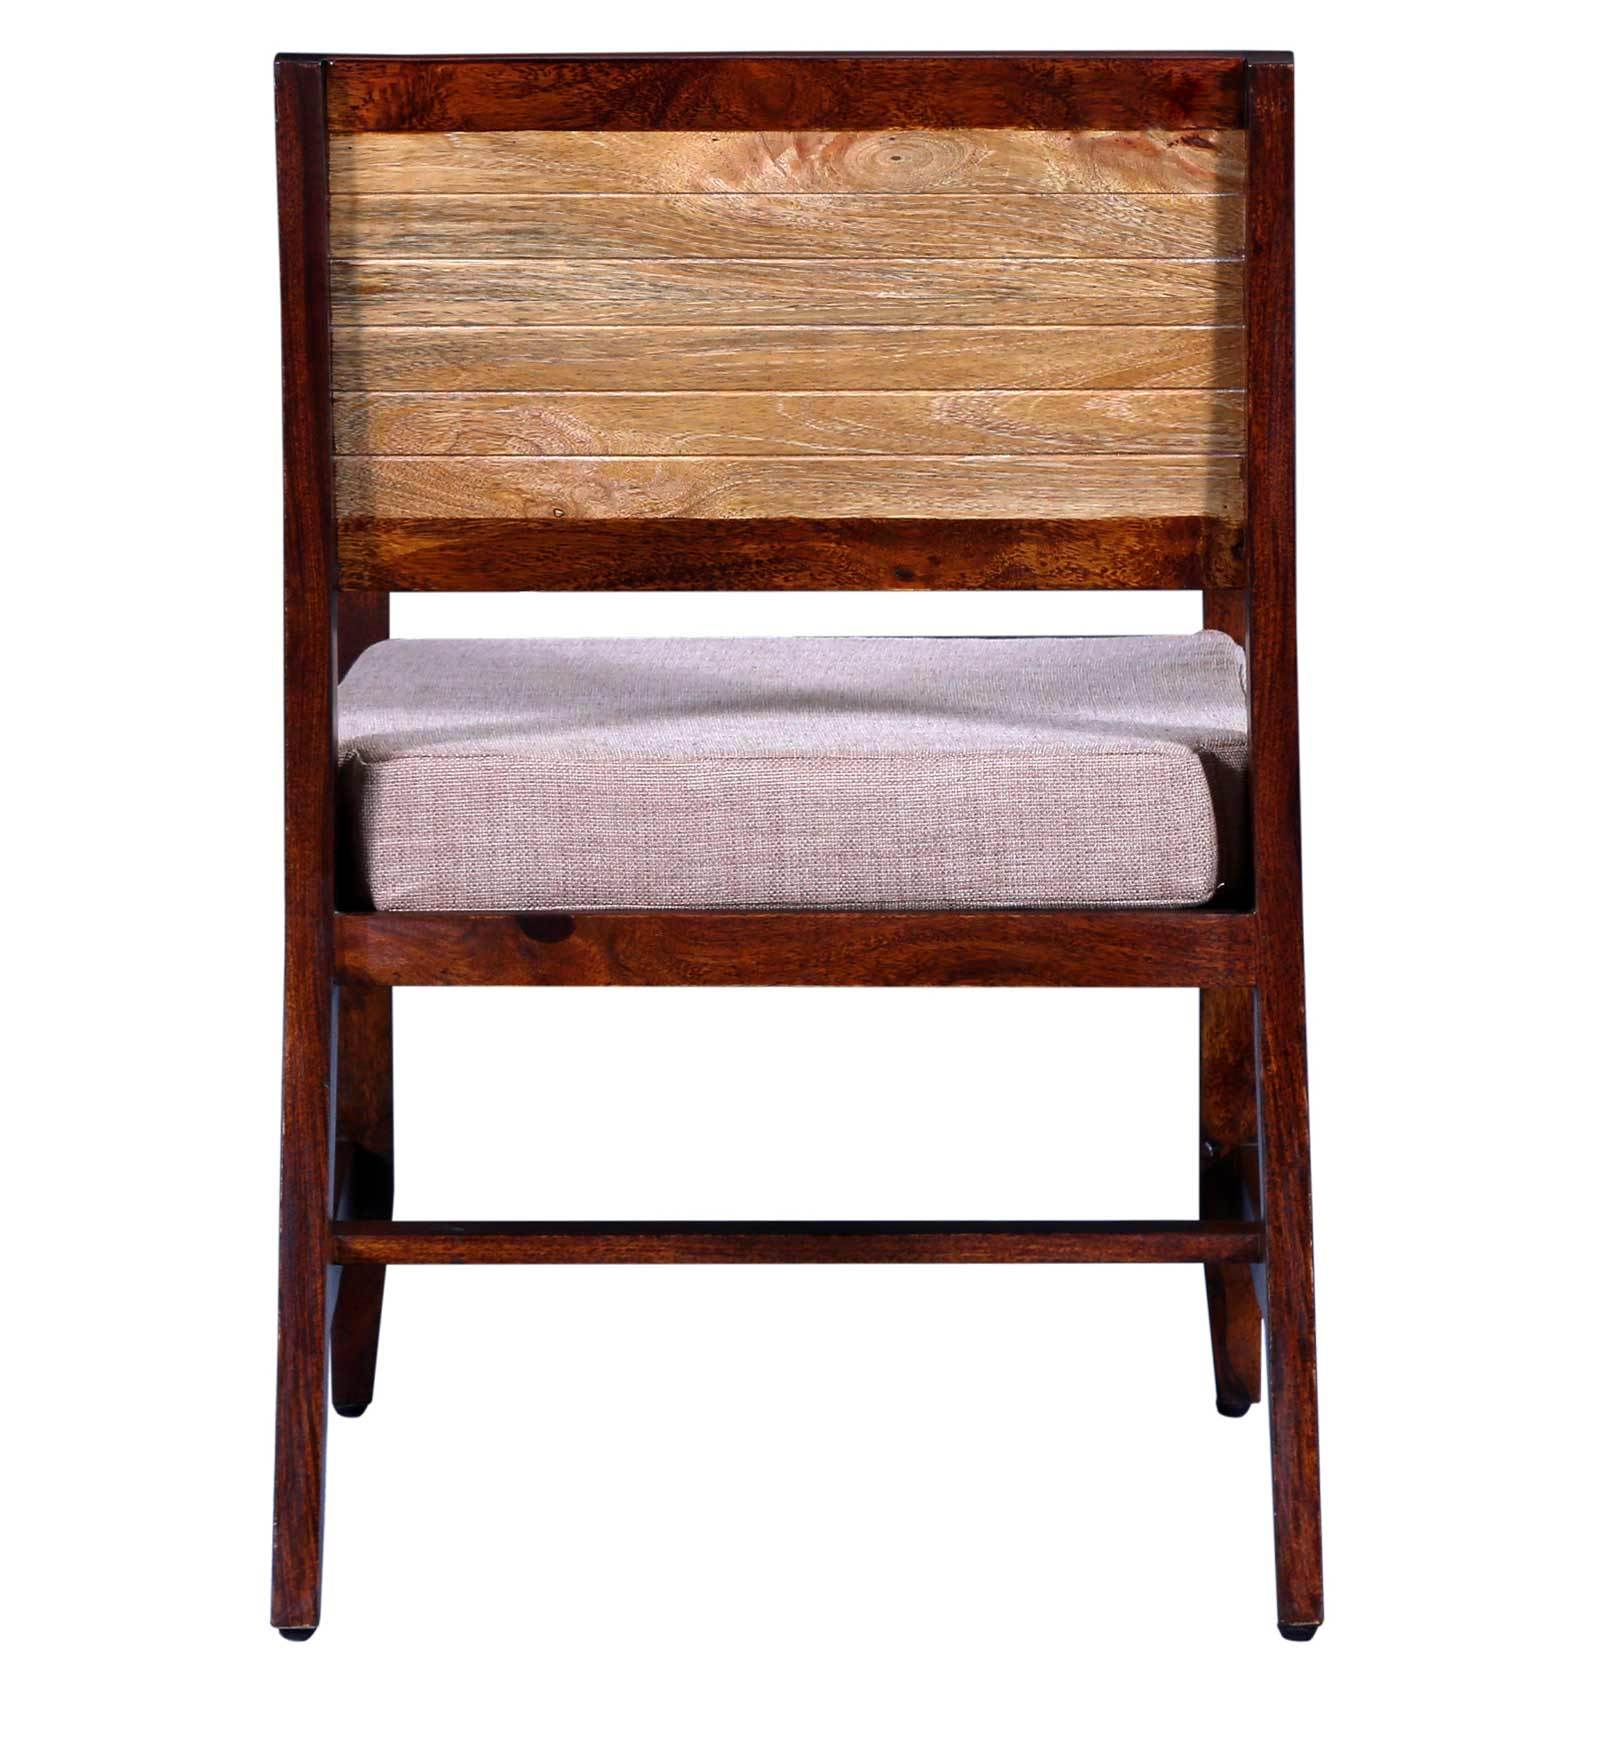Anitz Arm Chair in Dual Tone Finish by Woodsworth: (202, 23, 1384, 1663)
